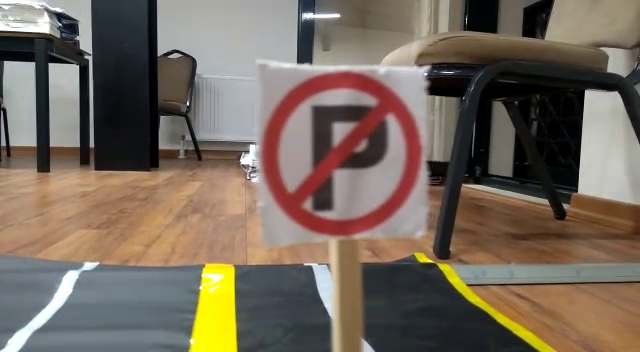park_yapilmaz: (262, 67, 426, 235)
